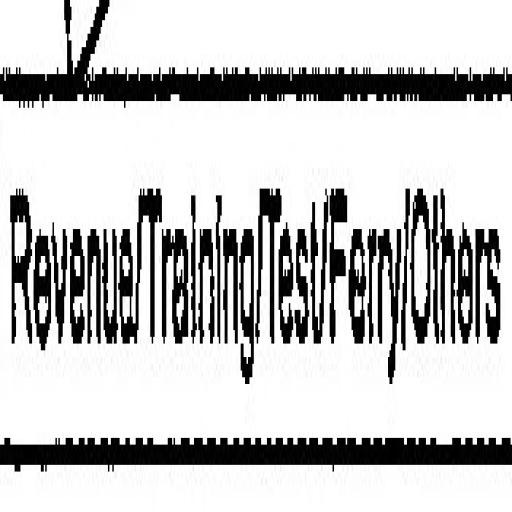check: (0, 0, 137, 505)
